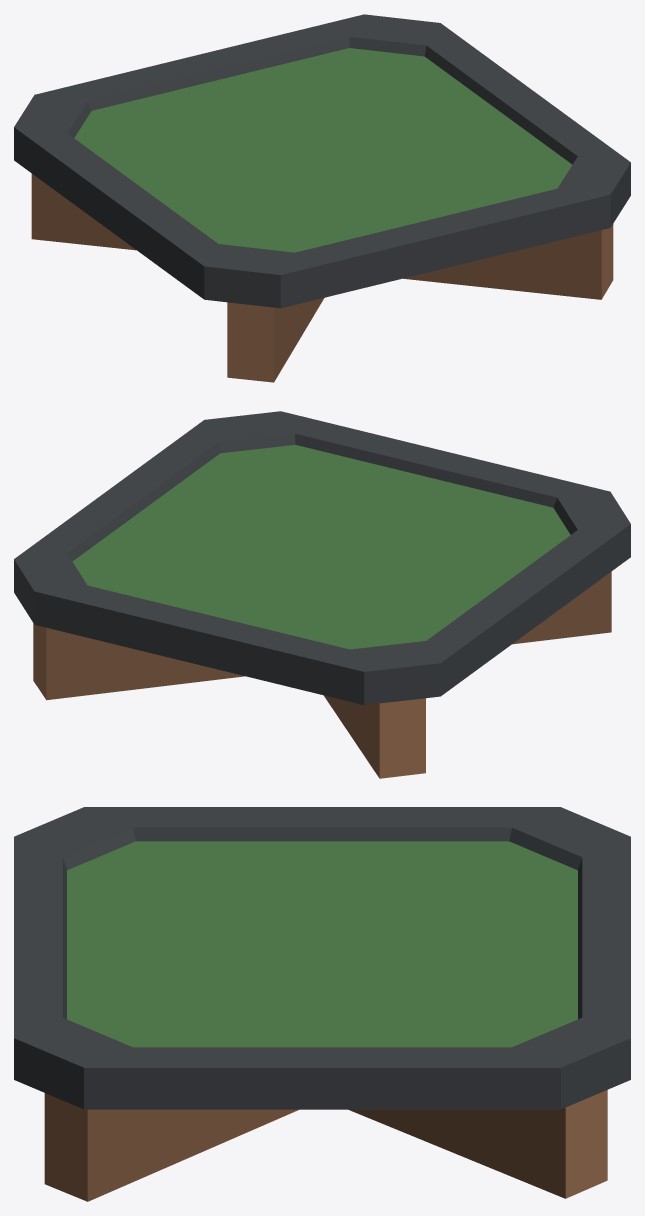
File: SM_GameArea_RecreationalMachines_09.fbx
3 views of the same model, one above another, from view 1: azimuth 30°, elevation 25°; view 2: azimuth 150°, elevation 25°; view 3: azimuth 270°, elevation 25° (orthographic). The views are drawn at different scales.
Parts seen in each view (by area): view 1: SM_GameArea_RecreationalMachines_09; view 2: SM_GameArea_RecreationalMachines_09; view 3: SM_GameArea_RecreationalMachines_09.
Boxes of the visible parts, left/top/right/bottom form: SM_GameArea_RecreationalMachines_09: left=14, top=14, right=630, bottom=382; SM_GameArea_RecreationalMachines_09: left=14, top=411, right=630, bottom=778; SM_GameArea_RecreationalMachines_09: left=14, top=807, right=630, bottom=1201.
Size of the model in its own units: 10.01 by 2.58 by 10.01.
1 material, 1 textured.
